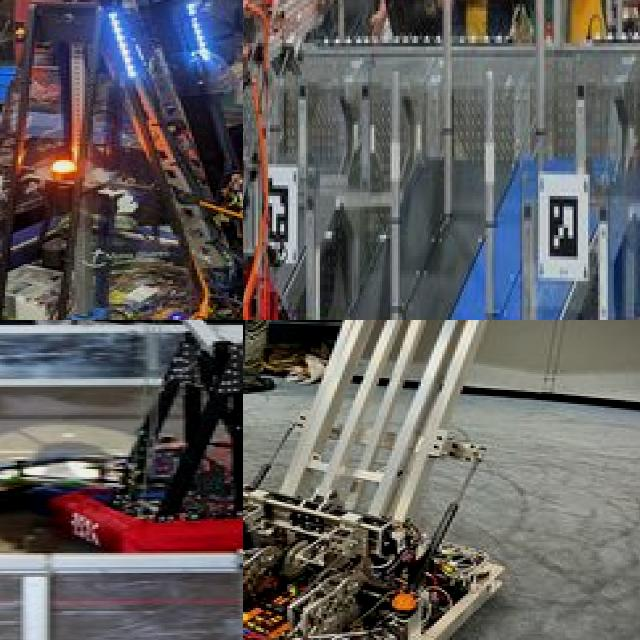FRC-Robots: (243, 320, 624, 640), (0, 0, 243, 320), (243, 0, 416, 320), (42, 320, 243, 570)
